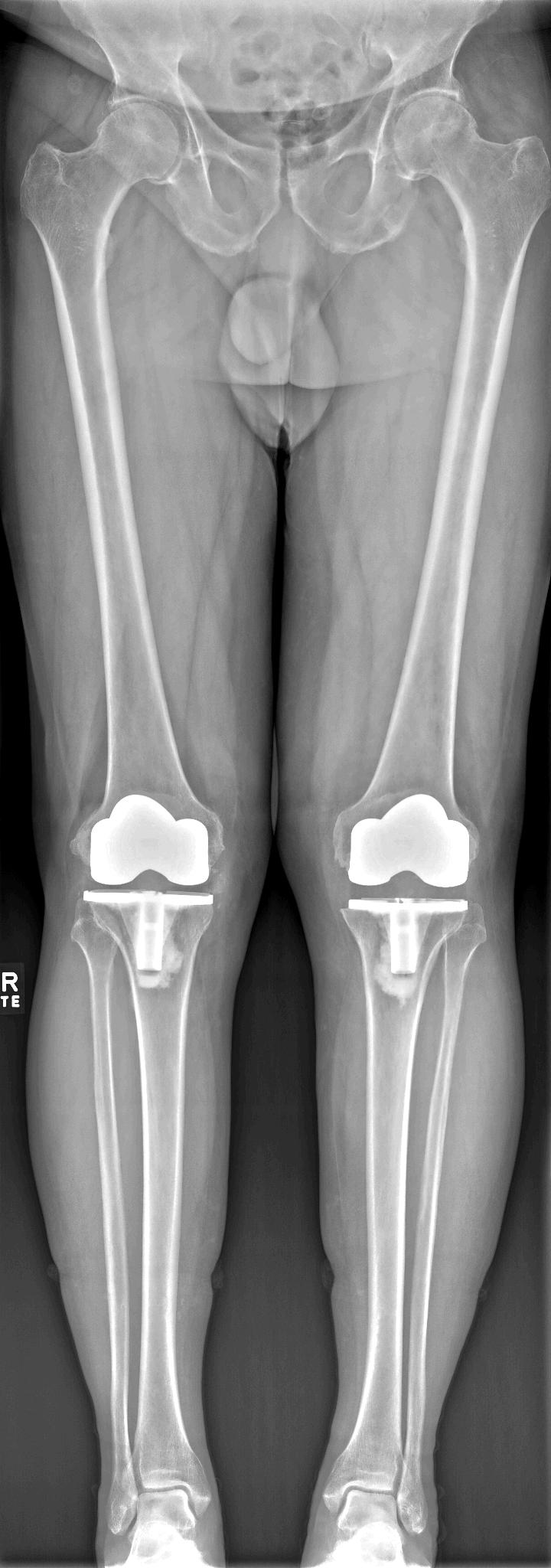Leg Fibula: (398, 906, 485, 1533), (71, 917, 139, 1535)
Leg Tibia: (324, 898, 467, 1512), (86, 889, 215, 1515)
femur: (333, 95, 551, 889), (19, 100, 224, 884)
